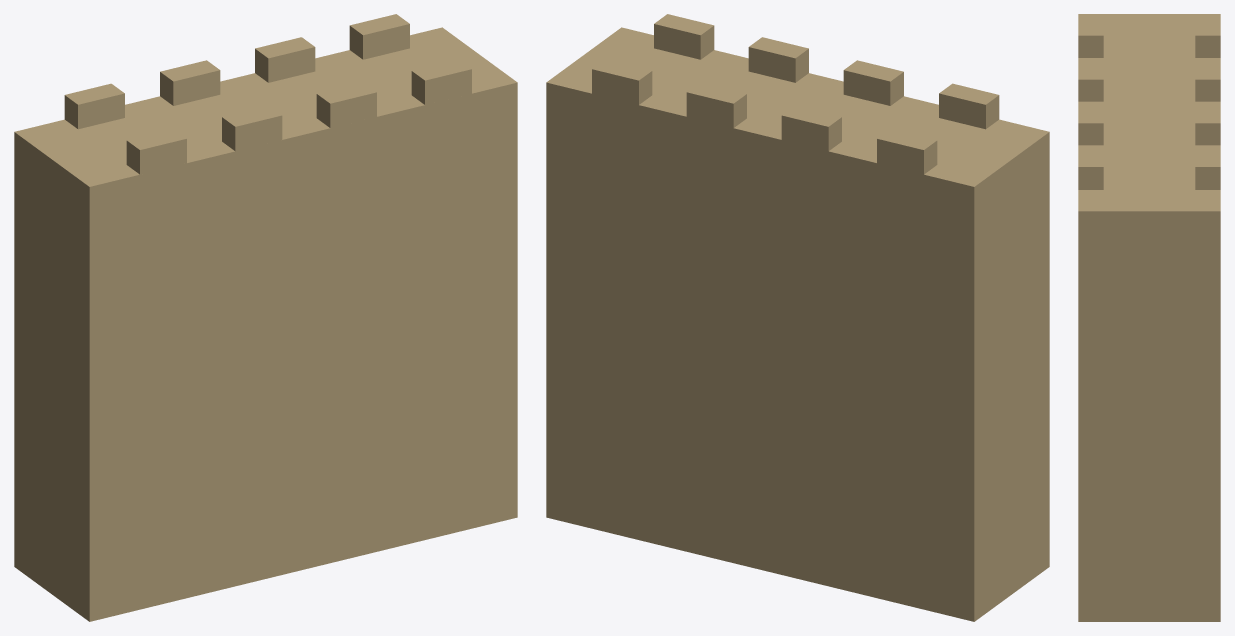
The model's file is jumper_wall_B.FBX.
3 views of the same model, side by side, from view 1: azimuth 30°, elevation 25°; view 2: azimuth 150°, elevation 25°; view 3: azimuth 270°, elevation 25° (orthographic). The views are drawn at different scales.
Parts seen in each view (by area): view 1: wall_B (×9); view 2: wall_B (×9); view 3: wall_B (×9).
Part boxes in pixels (<box>): wall_B (×9): <box>14,14,517,621</box>; wall_B (×9): <box>546,14,1049,621</box>; wall_B (×9): <box>1078,14,1220,621</box>.
Size of the model in its own units: 183 by 188 by 55.8.
